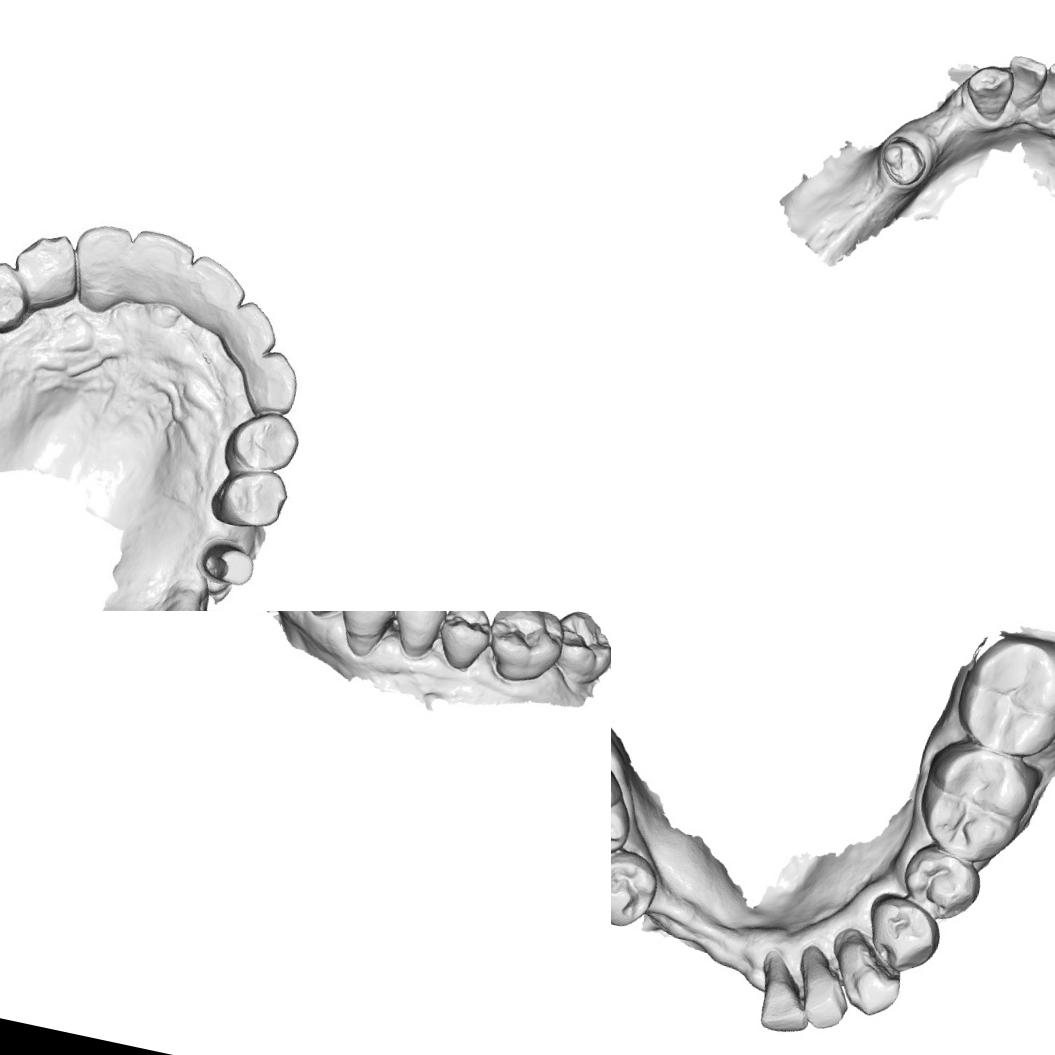abutment: (192, 534, 258, 594)
canine: (824, 928, 912, 1022), (9, 230, 85, 316), (238, 346, 303, 419), (960, 60, 1018, 128), (330, 611, 399, 654)
crown: (872, 129, 934, 193)
incisor: (746, 958, 818, 1040), (68, 221, 142, 299), (791, 954, 858, 1036), (181, 253, 250, 331), (127, 229, 199, 303), (212, 297, 282, 365), (996, 50, 1052, 115), (1033, 57, 1055, 129)
molar: (910, 736, 1042, 872), (952, 625, 1055, 763), (479, 611, 568, 693), (611, 737, 647, 886), (547, 611, 611, 692)
premolar: (859, 889, 948, 977), (898, 839, 988, 924), (213, 465, 294, 536), (611, 839, 666, 933), (224, 408, 298, 475), (432, 611, 497, 675), (383, 611, 451, 663), (0, 256, 29, 326)
